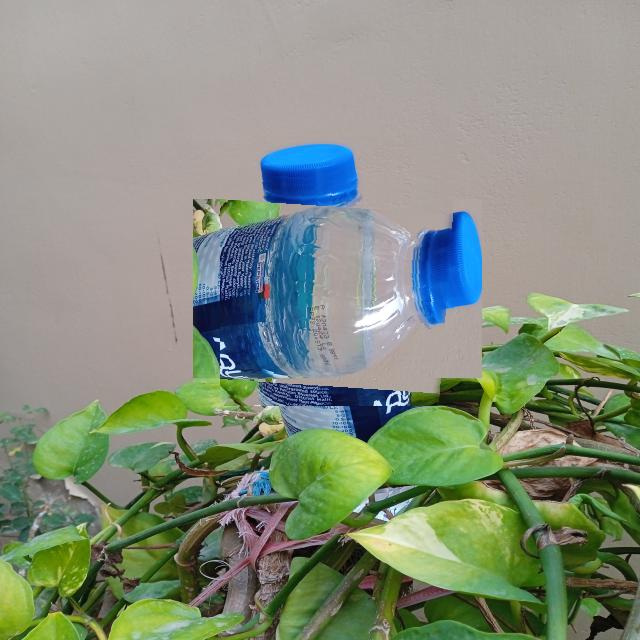Plastic: (220, 172, 455, 406)
